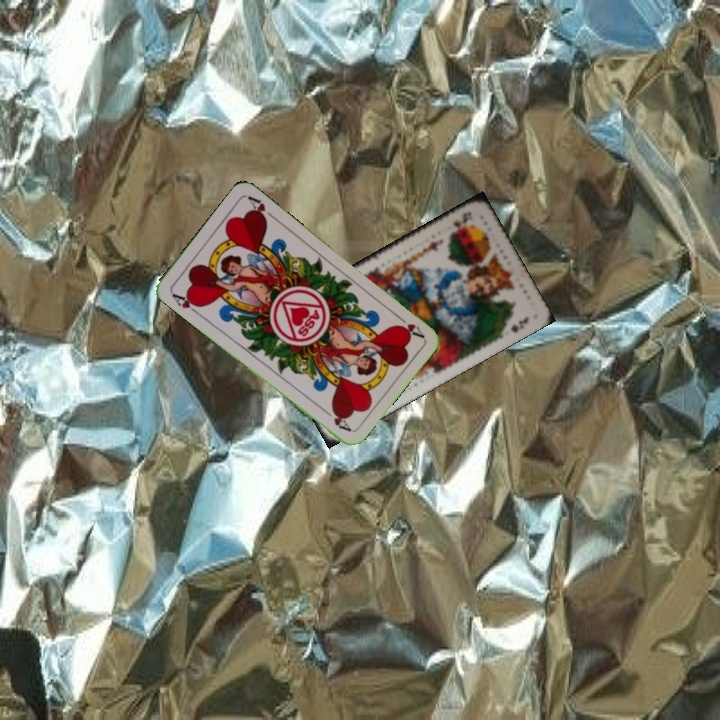HA: (391, 310, 426, 341), (167, 289, 204, 318)
SK: (449, 207, 475, 233)
